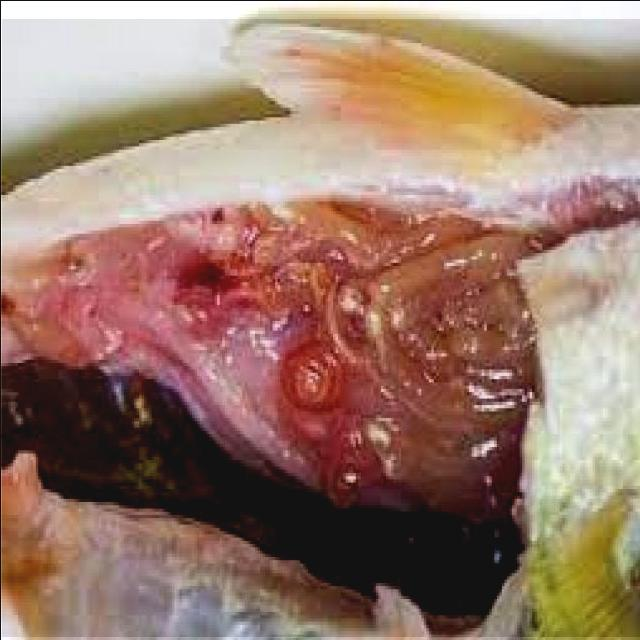EUS Disease: (1, 18, 638, 636)
